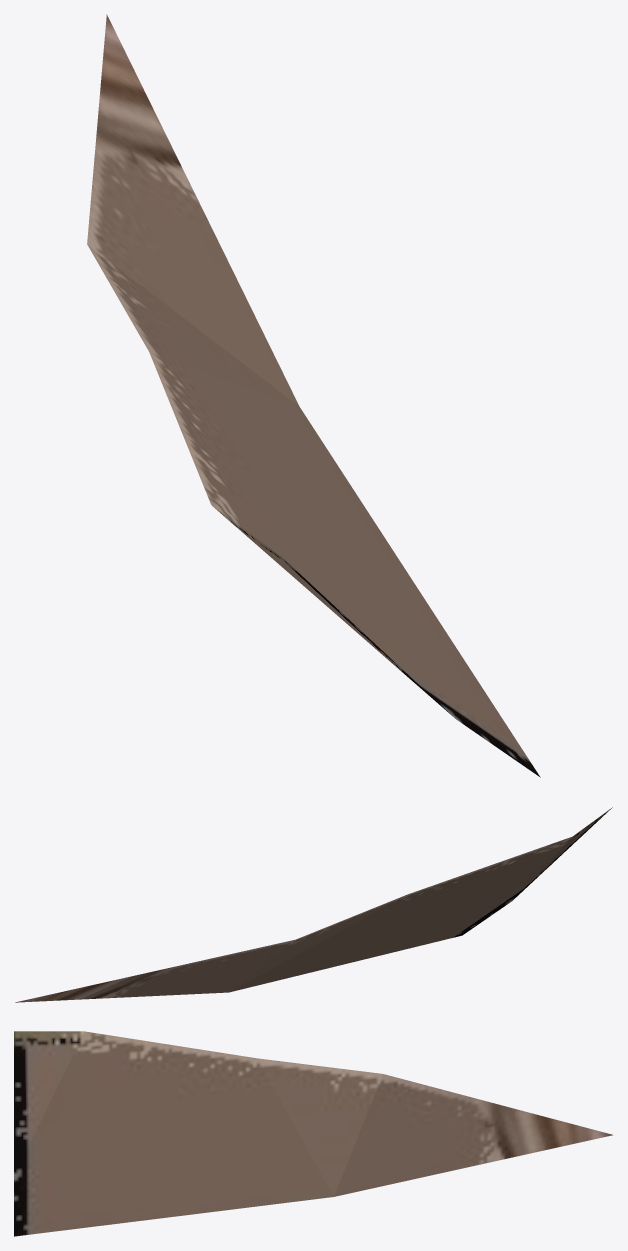
The picture shows the model from 3 angles, top to bottom: view 1: azimuth 30°, elevation 25°; view 2: azimuth 150°, elevation 25°; view 3: azimuth 270°, elevation 25°; orthographic projection. The views are drawn at different scales.
Bounding box in the file's own units: 0.8691 × 0.5552 × 2.13.
1 material, 1 textured.
